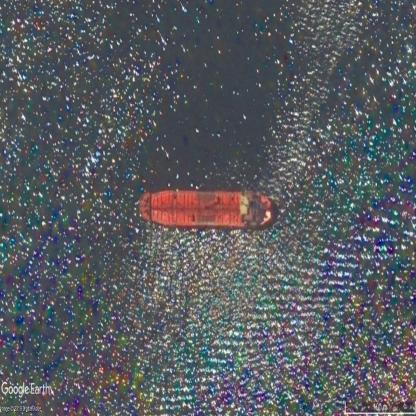ship: (138, 191, 274, 228)
